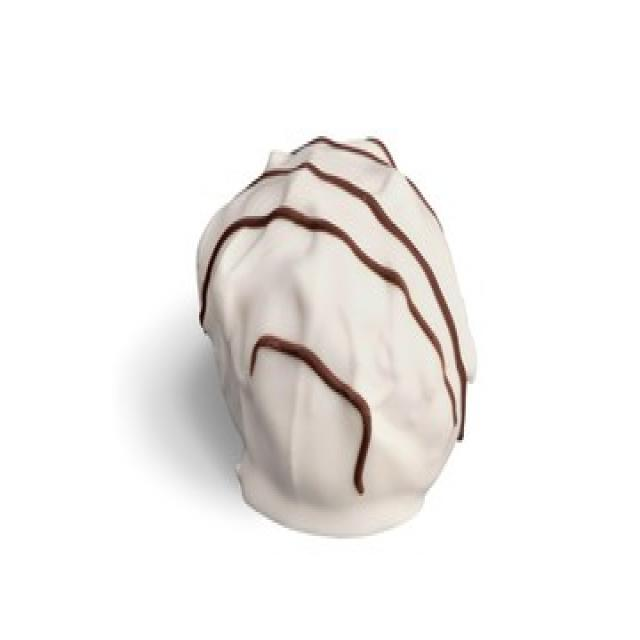Chocolate: (198, 118, 476, 530)
